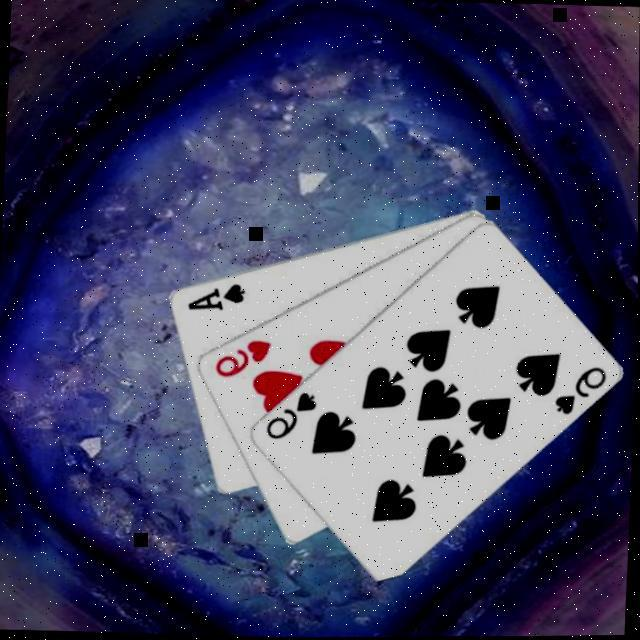9H: (210, 336, 272, 383)
9S: (549, 364, 608, 420), (260, 389, 318, 445)
AS: (182, 280, 247, 316)
